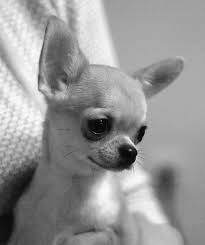chihuahua: (14, 6, 184, 229)
